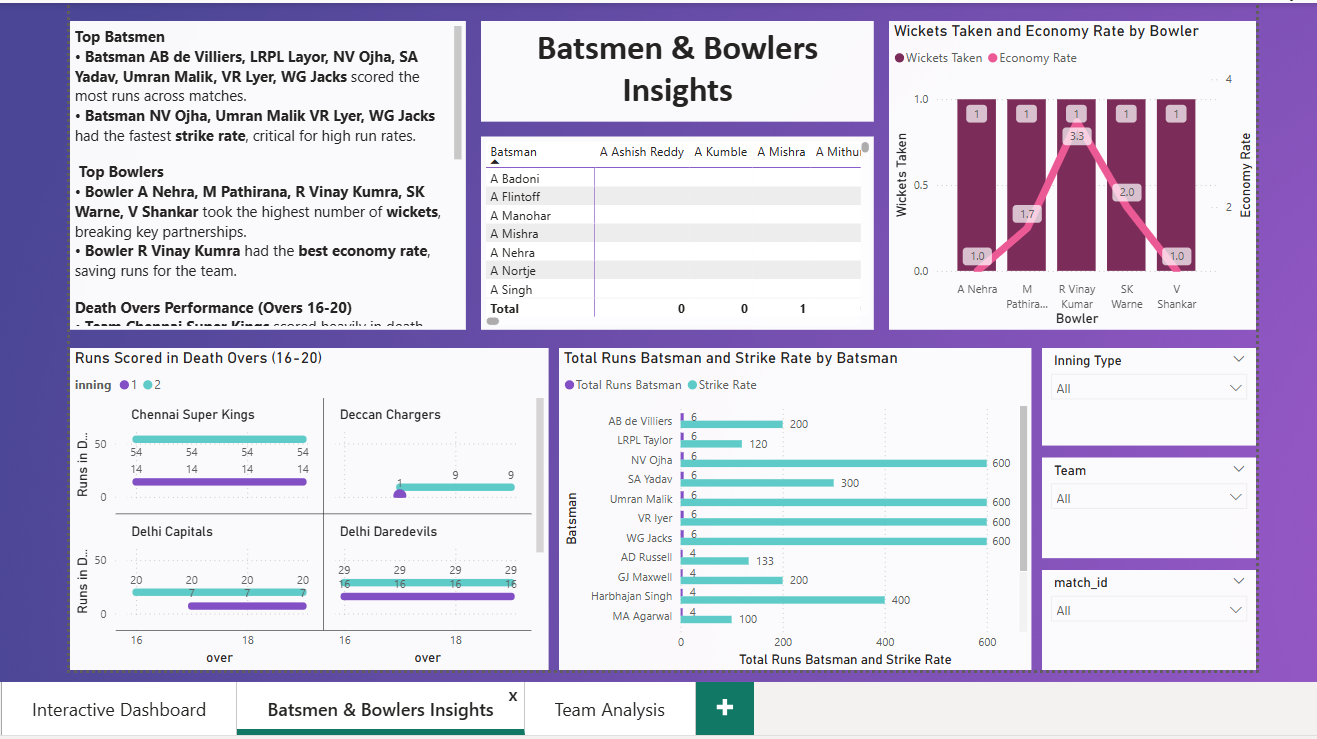

The page's visual inventory and layout, read from the dashboard file:
{"tool":"powerbi","page":{"name":"Batsmen & Bowlers Insights","canvas":[1280,720],"ordinal":1},"visuals":[{"type":"clusteredBarChart","fields":{"Y":["IPLdataset.Total Runs Batsman","IPLdataset.Strike Rate"],"Category":["DimBatsmen.Batsman"]},"box":[527.9,372.4,510.1,348.1],"z":0},{"type":"pivotTable","fields":{"Rows":["DimBatsmen.Batsman"],"Columns":["DimBowlers.Bowler"],"Values":["IPLdataset.Total Runs Batsman"]},"box":[443.7,144.1,424.2,208.9],"z":1},{"type":"lineClusteredColumnComboChart","fields":{"Category":["DimBowlers.Bowler"],"Y":["IPLdataset.Wickets Taken"],"Y2":["IPLdataset.Economy Rate"]},"box":[884.1,19.4,396.7,333.6],"z":2},{"type":"lineChart","title":"Runs Scored in Death Overs (16-20)","fields":{"Category":["IPLdataset.over"],"Y":["IPLdataset.Runs in Death Overs"],"Series":["IPLdataset.inning"],"Rows":["IPLdataset.batting_team"]},"box":[0,372.4,516.5,348.1],"z":3},{"type":"slicer","fields":{"Values":["IPLdataset.match_id"]},"box":[1049.3,612.1,231.5,108.5],"z":4},{"type":"slicer","fields":{"Values":["DimTeams.Team"]},"box":[1049.3,490.6,231.5,108.5],"z":5},{"type":"slicer","fields":{"Values":["IPLdataset.Inning Type"]},"box":[1049.3,372.4,231.5,105.2],"z":6},{"type":"textbox","box":[443.7,19.4,424.2,108.5],"z":7},{"type":"textbox","box":[0,19.4,427.5,333.6],"z":8}]}

Visuals, with their boxes on the page's 1280x720 design canvas (x1, y1, x2, y2). These are canvas units, not pixel positions in the 1317x739 screenshot, which may show the page scaled, cropped or inside an application window:
clusteredBarChart - IPLdataset.Total Runs Batsman x IPLdataset.Strike Rate: select_region(528, 372, 1038, 720)
pivotTable - DimBatsmen.Batsman x DimBowlers.Bowler: select_region(444, 144, 868, 353)
lineClusteredColumnComboChart - DimBowlers.Bowler x IPLdataset.Wickets Taken: select_region(884, 19, 1281, 353)
"Runs Scored in Death Overs (16-20)" lineChart: select_region(0, 372, 516, 720)
slicer - IPLdataset.match_id: select_region(1049, 612, 1281, 721)
slicer - DimTeams.Team: select_region(1049, 491, 1281, 599)
slicer - IPLdataset.Inning Type: select_region(1049, 372, 1281, 478)
textbox: select_region(444, 19, 868, 128)
textbox: select_region(0, 19, 428, 353)
